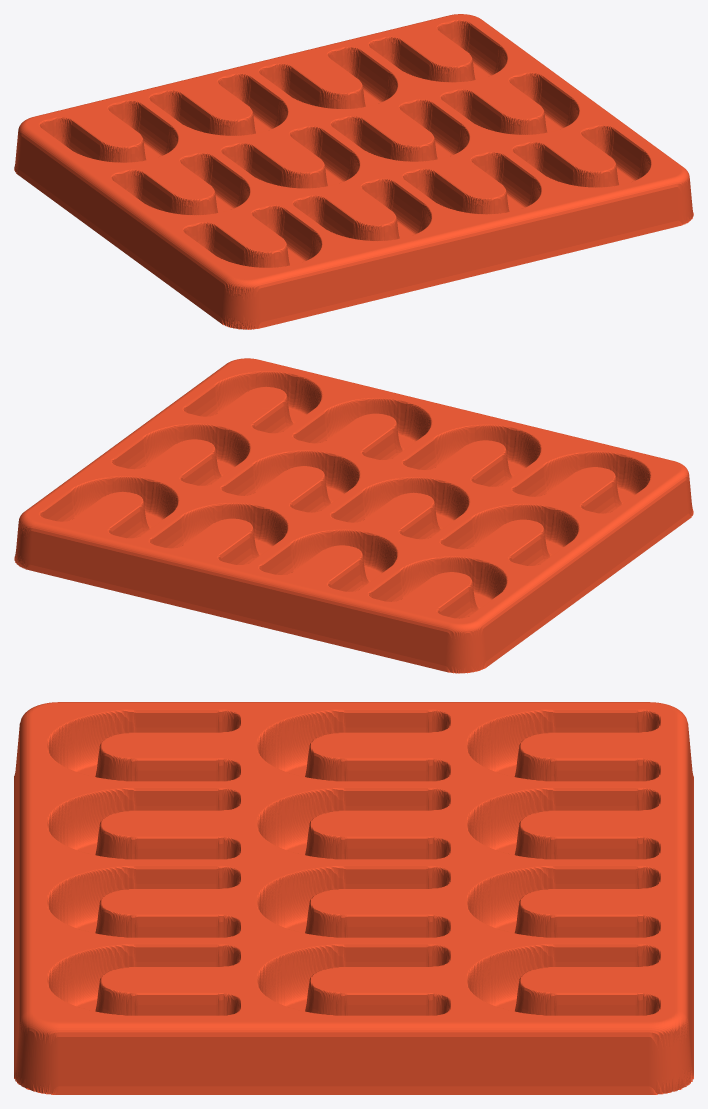
File: mold.glb
3 views of the same model, one above another, from view 1: azimuth 30°, elevation 25°; view 2: azimuth 150°, elevation 25°; view 3: azimuth 270°, elevation 25° (orthographic). The views are drawn at different scales.
Visible parts, largest first — view 1: geometry_0; view 2: geometry_0; view 3: geometry_0.
Part boxes in pixels (box(x1,y1,x2,y2)): geometry_0: box(14, 14, 693, 329); geometry_0: box(14, 358, 693, 673); geometry_0: box(14, 702, 693, 1094).
Size of the model in its own units: 0.1597 by 0.0145 by 0.1374.
